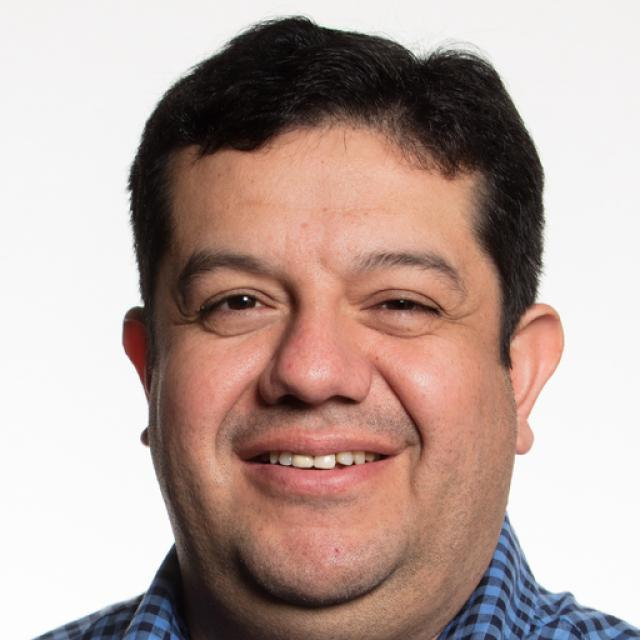happy: (145, 120, 515, 616)
